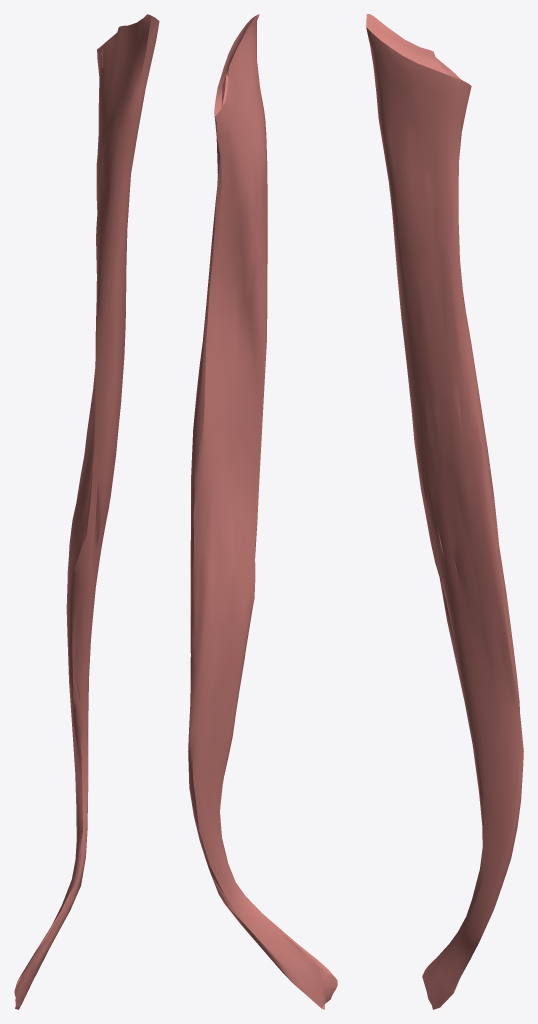
Rendered from fma43883_mm1678m.glb.
3 views of the same model, side by side, from view 1: azimuth 30°, elevation 25°; view 2: azimuth 150°, elevation 25°; view 3: azimuth 270°, elevation 25° (orthographic). The views are drawn at different scales.
Parts seen in each view (by area): view 1: FMA43883_MM1678M; view 2: FMA43883_MM1678M; view 3: FMA43883_MM1678M.
Part boxes in pixels (x1=…): FMA43883_MM1678M: x1=14, y1=14, x2=159, y2=1009; FMA43883_MM1678M: x1=188, y1=14, x2=337, y2=1009; FMA43883_MM1678M: x1=366, y1=14, x2=523, y2=1009.
Bounding box in the file's own units: 0.064 × 0.4876 × 0.0666.
